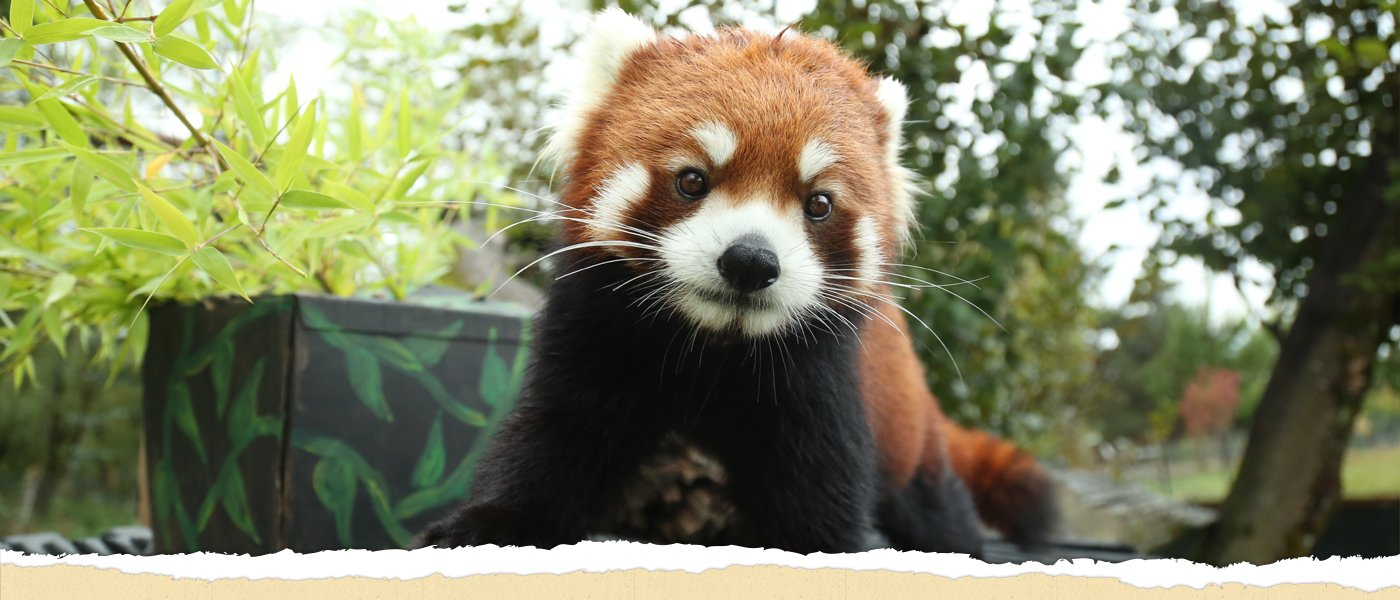red_panda: (471, 16, 997, 551)
